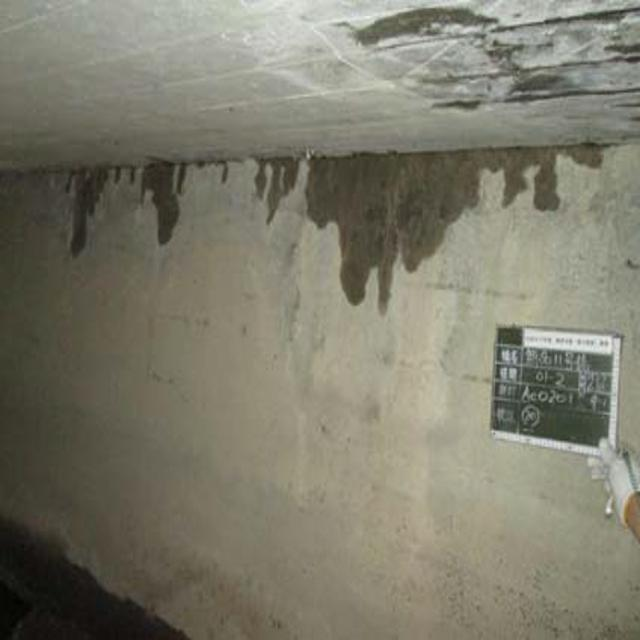leakage: (51, 150, 622, 299)
